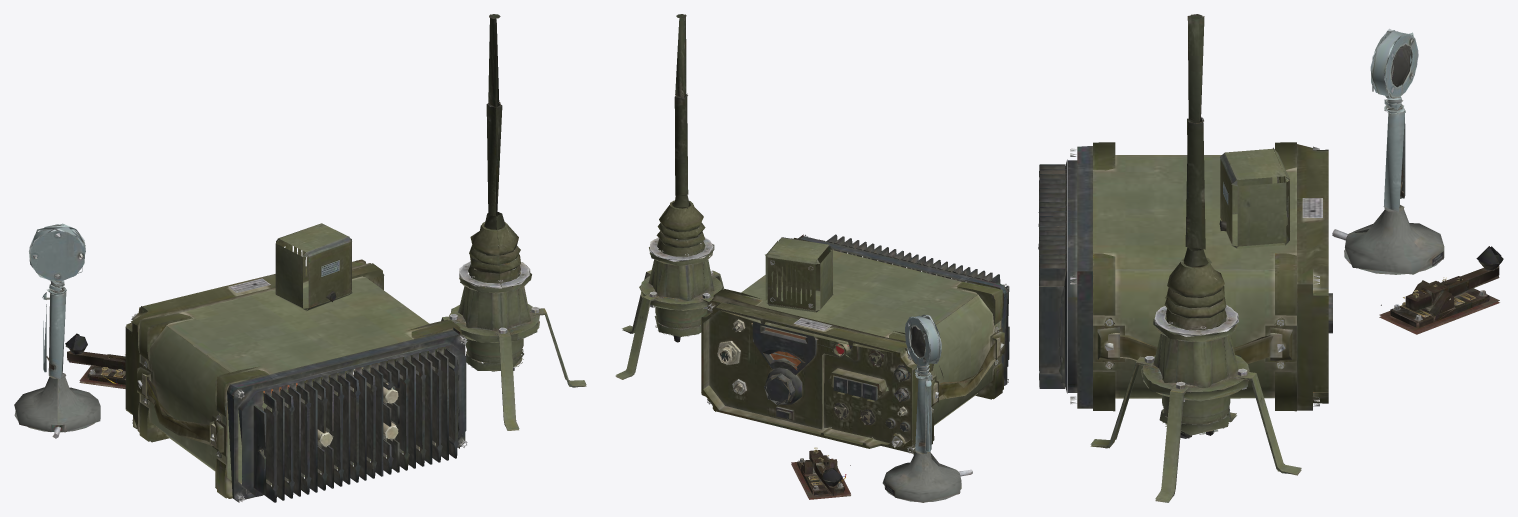
Rendered from radio.glb.
3 renders of one model, left to right at view 1: azimuth 30°, elevation 25°; view 2: azimuth 150°, elevation 25°; view 3: azimuth 270°, elevation 25°, orthographic. The views are drawn at different scales.
Visible parts, largest first — view 1: vintage_radio_transceiver; view 2: vintage_radio_transceiver; view 3: vintage_radio_transceiver.
Boxes of the visible parts, x1,y1,x2,y2 form: vintage_radio_transceiver: (14, 14, 586, 502); vintage_radio_transceiver: (615, 14, 1009, 502); vintage_radio_transceiver: (1038, 14, 1503, 502).
Size of the model in its own units: 0.5669 by 0.4337 by 0.4136.
Materials: 2 (2 with a texture image).
